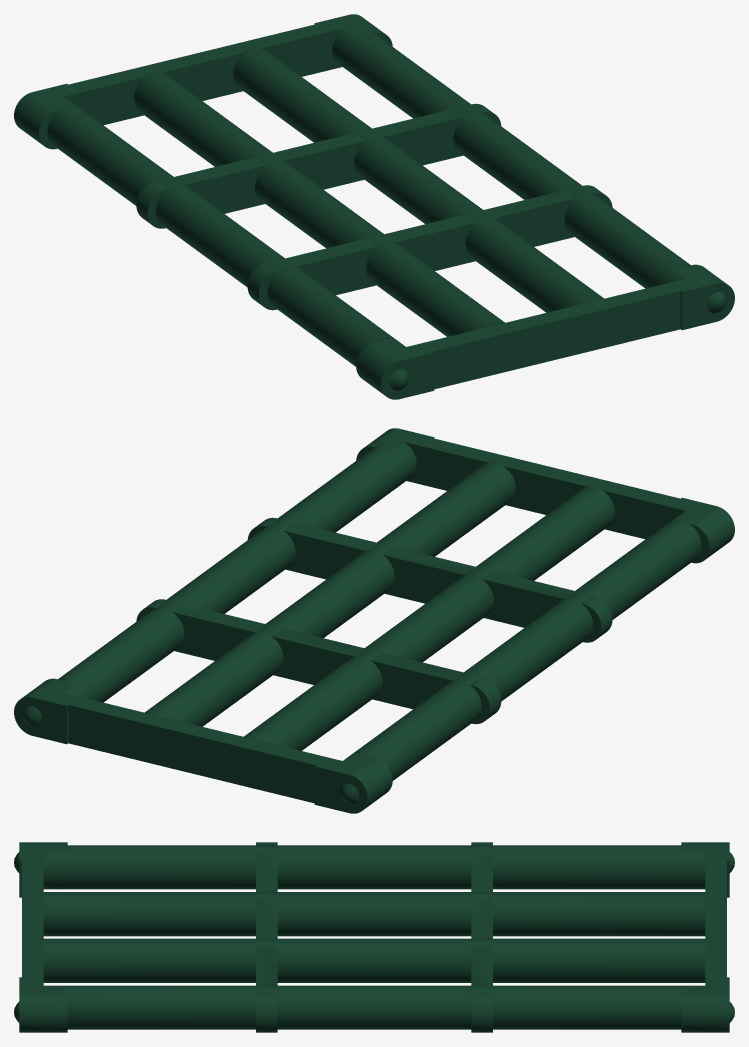
File: rejas.dae
3 views of the same model, one above another, from view 1: azimuth 30°, elevation 25°; view 2: azimuth 150°, elevation 25°; view 3: azimuth 270°, elevation 25° (orthographic). The views are drawn at different scales.
Parts seen in each view (by area): view 1: Inner-Node-UntitledModel_dot_io-0; view 2: Inner-Node-UntitledModel_dot_io-0; view 3: Inner-Node-UntitledModel_dot_io-0.
Boxes of the visible parts, <box> form: Inner-Node-UntitledModel_dot_io-0: <box>14,14,734,399</box>; Inner-Node-UntitledModel_dot_io-0: <box>14,428,734,813</box>; Inner-Node-UntitledModel_dot_io-0: <box>14,842,734,1032</box>.
Size of the model in its own units: 71.14 by 7.99 by 130.
